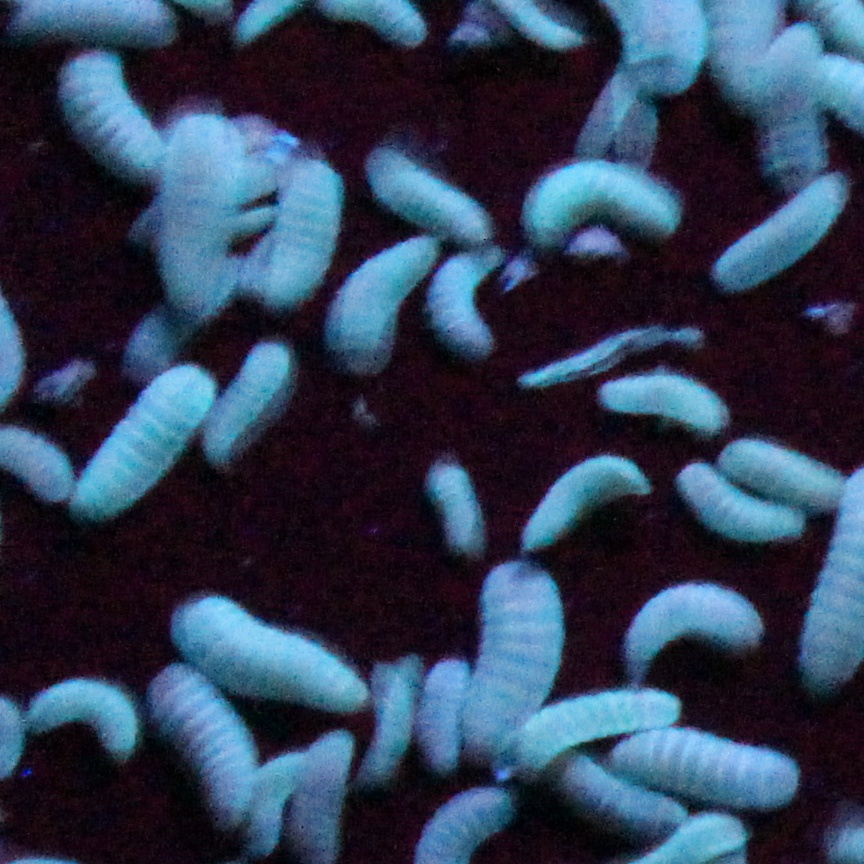larve: (159, 592, 374, 710), (465, 549, 563, 783), (63, 365, 218, 508), (704, 167, 854, 290), (154, 113, 245, 308), (604, 728, 820, 810), (138, 663, 254, 813), (749, 10, 834, 192), (327, 233, 445, 363), (513, 456, 665, 551), (520, 160, 690, 240), (56, 40, 159, 172), (513, 688, 684, 767), (365, 147, 495, 240), (202, 338, 295, 465), (674, 458, 811, 544), (627, 583, 765, 667), (263, 158, 340, 308), (561, 751, 695, 822), (590, 367, 736, 431), (718, 440, 845, 506), (429, 244, 504, 353), (29, 678, 134, 751), (413, 653, 472, 778), (420, 460, 488, 553), (243, 753, 302, 858), (370, 653, 413, 781)
